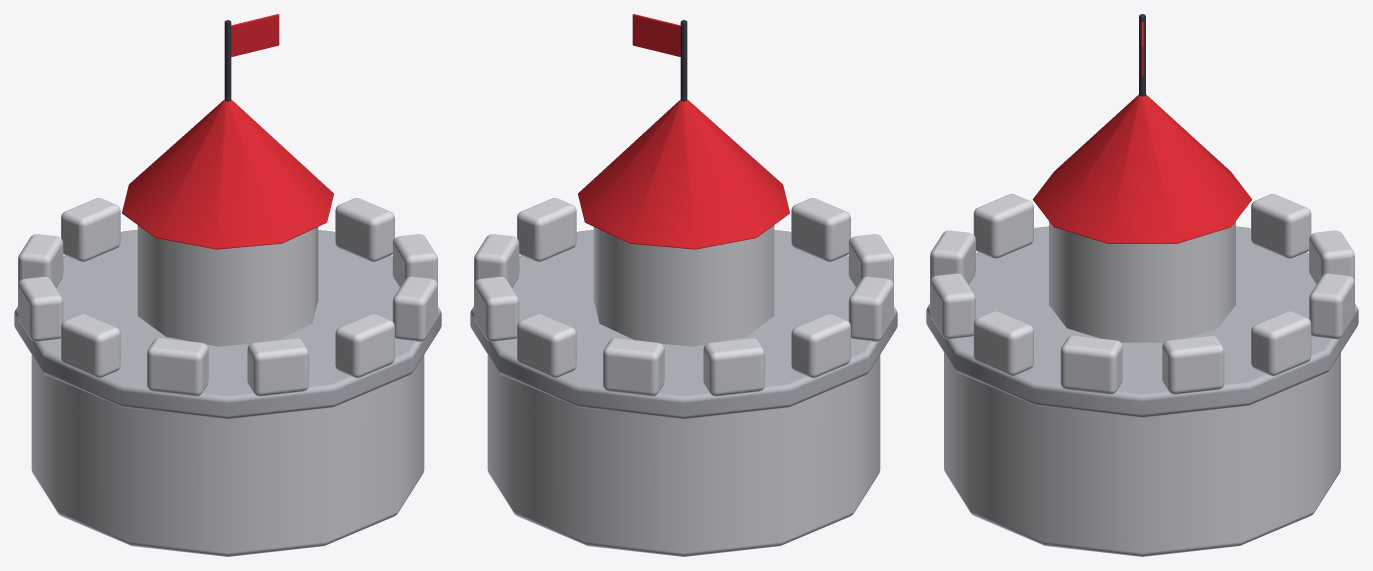
Rendered from borg.glb.
3 renders of one model, left to right at view 1: azimuth 30°, elevation 25°; view 2: azimuth 150°, elevation 25°; view 3: azimuth 270°, elevation 25°, orthographic.
Parts seen in each view (by area): view 1: borg_net; view 2: borg_net; view 3: borg_net.
Boxes of the visible parts, x1=… form: borg_net: x1=14, y1=14, x2=441, y2=556; borg_net: x1=470, y1=14, x2=897, y2=556; borg_net: x1=926, y1=14, x2=1358, y2=556.
Bounding box in the file's own units: 3.7 × 4.35 × 3.7.
